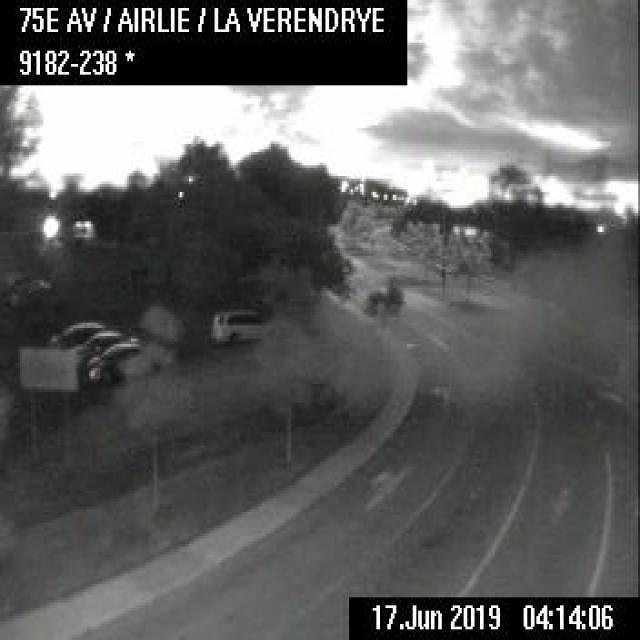vehicle: (86, 338, 140, 381), (208, 308, 266, 339), (67, 327, 121, 356), (48, 318, 103, 345)
